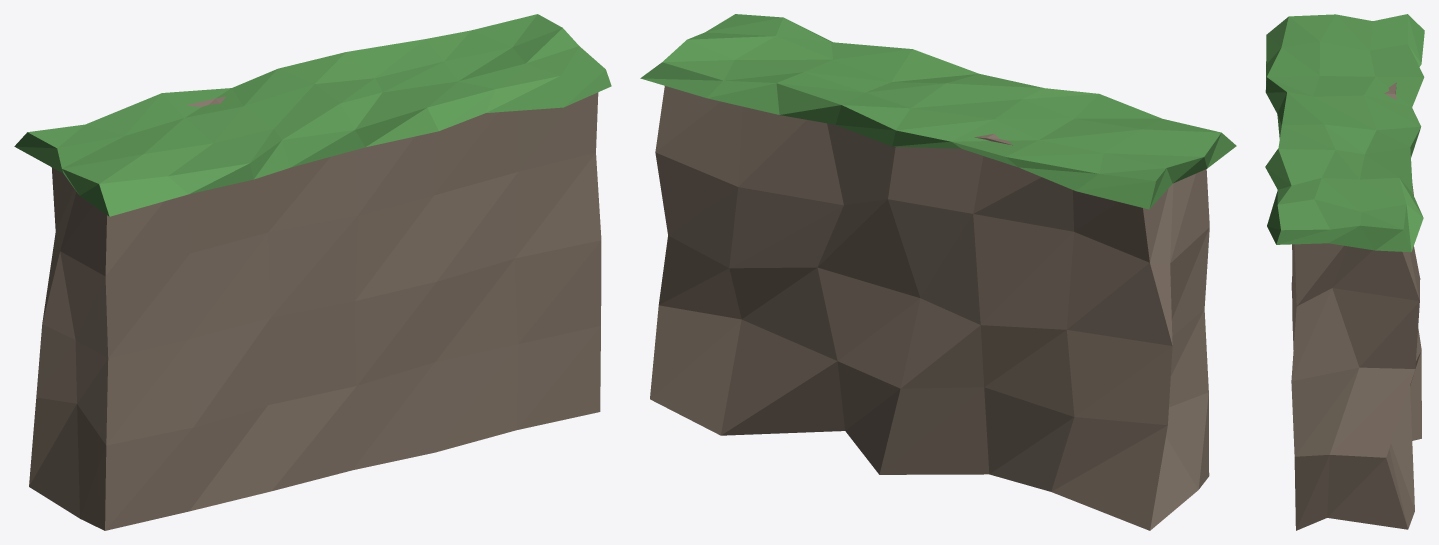
Rendered from cliff-edge-b.glb.
3 renders of one model, left to right at view 1: azimuth 30°, elevation 25°; view 2: azimuth 150°, elevation 25°; view 3: azimuth 270°, elevation 25°, orthographic. The views are drawn at different scales.
Visible parts, largest first — view 1: rock, grass; view 2: rock, grass; view 3: rock, grass.
Boxes of the visible parts, <box> form: rock: <box>29,92,601,530</box>; grass: <box>14,14,611,216</box>; rock: <box>650,86,1209,530</box>; grass: <box>640,14,1236,209</box>; rock: <box>1291,82,1421,530</box>; grass: <box>1265,14,1424,252</box>.
Bounding box in the file's own units: 13 × 8.58 × 3.94.
